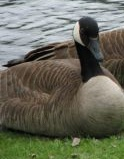goose: (1, 13, 124, 143)
